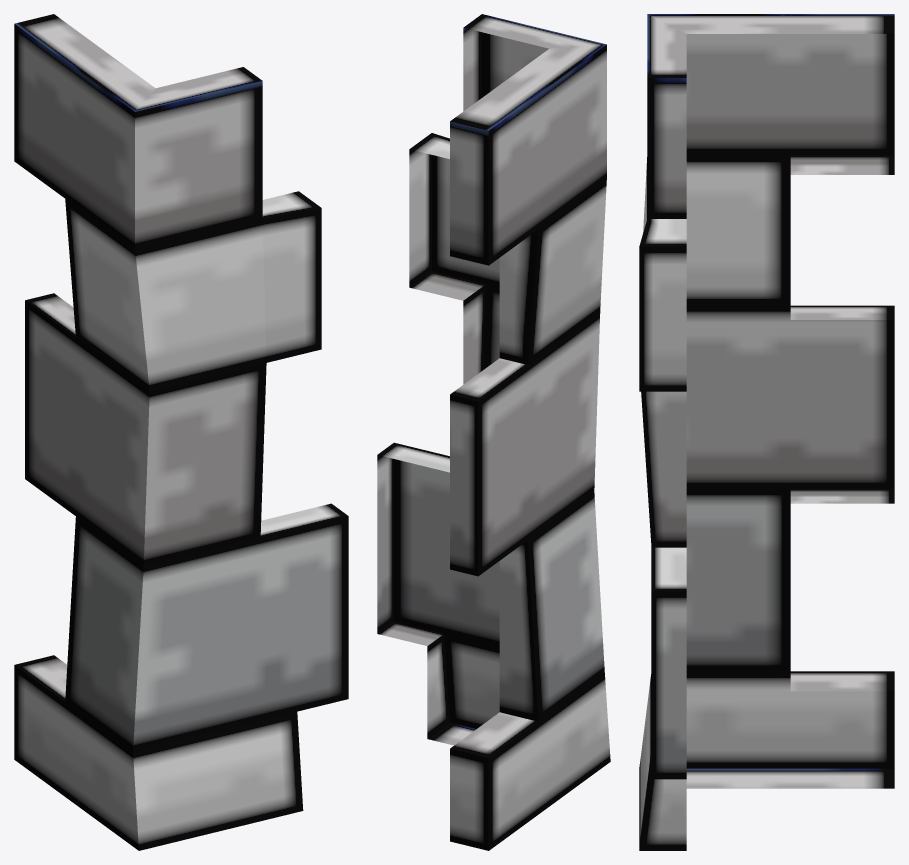
Rendered from arch_wall_plasterAngle.FBX.
3 renders of one model, left to right at view 1: azimuth 30°, elevation 25°; view 2: azimuth 150°, elevation 25°; view 3: azimuth 270°, elevation 25°, orthographic. The views are drawn at different scales.
Parts seen in each view (by area): view 1: arch_wall_plasterAngle; view 2: arch_wall_plasterAngle; view 3: arch_wall_plasterAngle.
Boxes of the visible parts, x1=… form: arch_wall_plasterAngle: x1=14, y1=14, x2=348, y2=850; arch_wall_plasterAngle: x1=377, y1=14, x2=610, y2=850; arch_wall_plasterAngle: x1=639, y1=14, x2=894, y2=850.
Bounding box in the file's own units: 1.23 × 4 × 1.23.
1 material, 1 textured.
